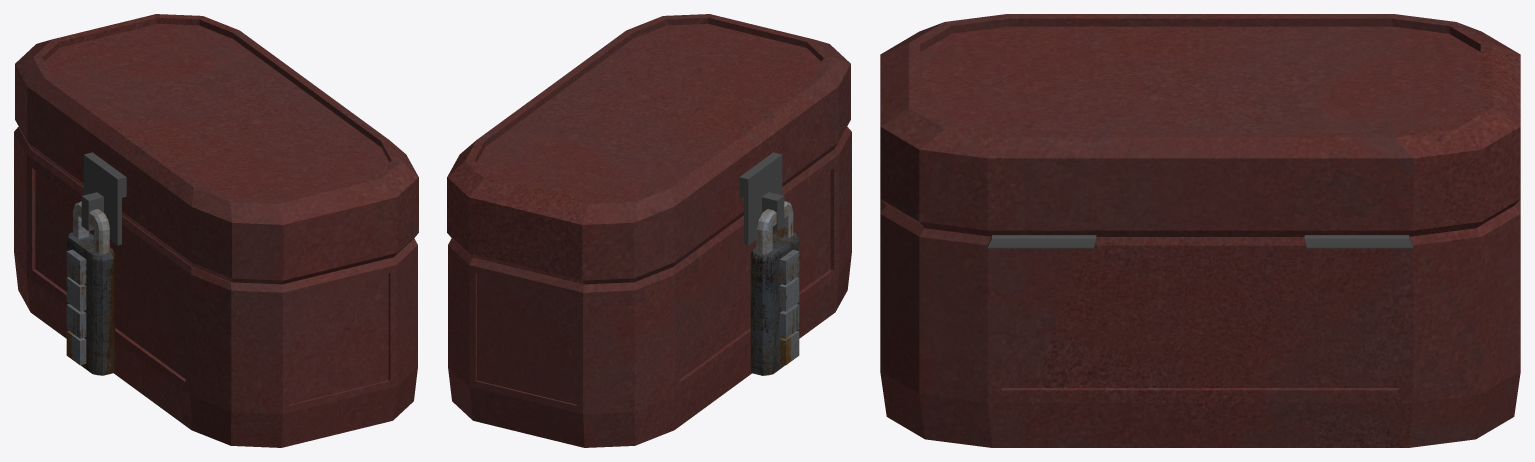
Rendered from cajaESmooth.fbx.
3 views of the same model, side by side, from view 1: azimuth 30°, elevation 25°; view 2: azimuth 150°, elevation 25°; view 3: azimuth 270°, elevation 25° (orthographic). The views are drawn at different scales.
Parts seen in each view (by area): view 1: Cylinder.001, Cylinder, Cube.003, Cube.006, Cube.007, Cube.009, Cube.010, Cube.008; view 2: Cylinder.001, Cylinder, Cube.003, Cube.006, Cube.007, Cube.009, Cube.010, Cube.008; view 3: Cylinder.001, Cylinder.
Part boxes in pixels (<box>): Cylinder.001: <box>15,14,418,284</box>; Cylinder: <box>14,126,417,447</box>; Cube.003: <box>66,232,115,375</box>; Cube.006: <box>73,201,109,254</box>; Cube.007: <box>66,249,86,284</box>; Cube.009: <box>66,304,86,338</box>; Cube.010: <box>66,331,86,365</box>; Cube.008: <box>66,277,86,311</box>; Cylinder.001: <box>447,14,850,284</box>; Cylinder: <box>448,126,851,447</box>; Cube.003: <box>750,232,799,375</box>; Cube.006: <box>756,201,793,254</box>; Cube.007: <box>779,250,799,285</box>; Cube.009: <box>779,304,799,338</box>; Cube.010: <box>779,331,799,365</box>; Cube.008: <box>779,277,799,311</box>; Cylinder.001: <box>880,14,1520,236</box>; Cylinder: <box>880,199,1520,447</box>.
Size of the model in its own units: 256 by 223 by 422.
